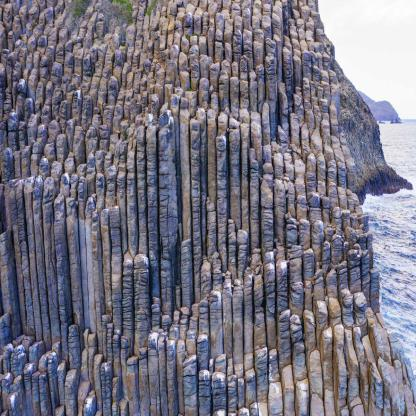Igneous_Basalt: (156, 121, 177, 251), (190, 110, 204, 266), (214, 127, 227, 248), (178, 98, 190, 226), (110, 205, 121, 324), (137, 124, 147, 252), (262, 160, 274, 257), (134, 254, 150, 326), (102, 207, 112, 318), (91, 208, 99, 343), (229, 126, 240, 219), (273, 177, 287, 244), (158, 258, 172, 320), (127, 148, 135, 252), (263, 262, 275, 328), (249, 159, 257, 246), (182, 242, 191, 311), (243, 272, 254, 328), (122, 253, 130, 325), (120, 161, 126, 251), (277, 260, 288, 309), (222, 277, 232, 330), (210, 290, 223, 329), (282, 46, 292, 94), (265, 54, 276, 97), (233, 280, 242, 330), (290, 110, 300, 152), (230, 74, 240, 115), (106, 164, 116, 203), (199, 300, 211, 330), (219, 69, 229, 103), (248, 73, 256, 110), (304, 248, 313, 280), (256, 68, 263, 106), (276, 127, 288, 149), (300, 217, 309, 246), (291, 256, 300, 279), (317, 155, 324, 184), (179, 52, 188, 71)
